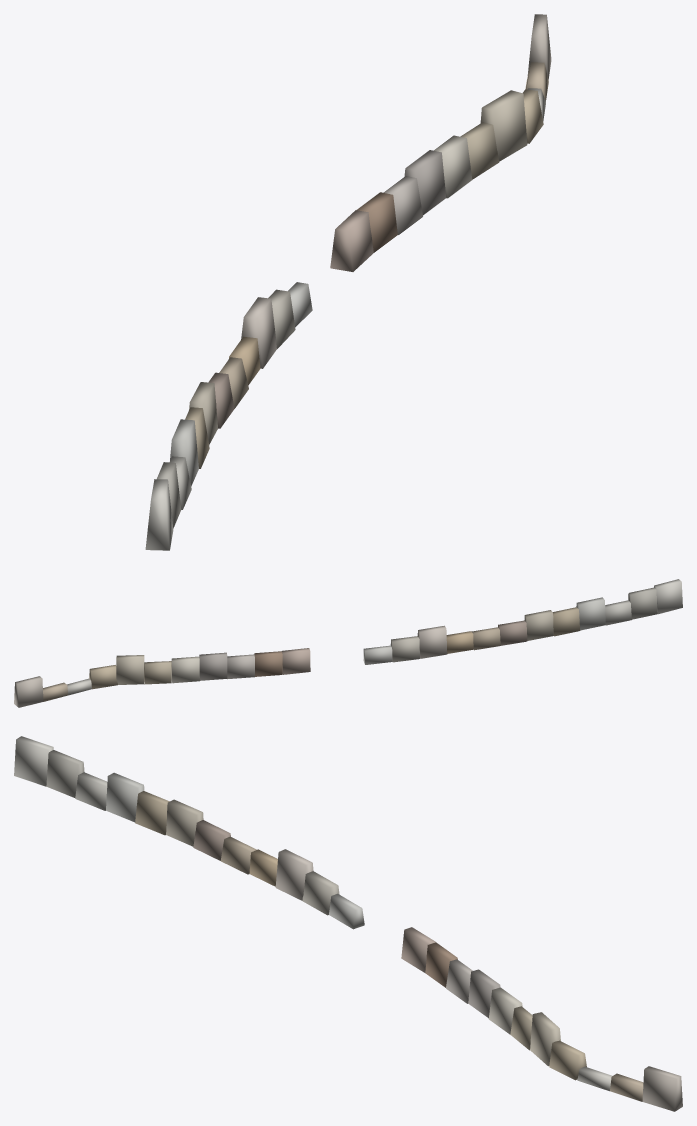
File: farm_29_16_collision.glb
3 views of the same model, one above another, from view 1: azimuth 30°, elevation 25°; view 2: azimuth 150°, elevation 25°; view 3: azimuth 270°, elevation 25° (orthographic). The views are drawn at different scales.
Parts seen in each view (by area): view 1: geometry_0; view 2: geometry_0; view 3: geometry_0.
Boxes of the visible parts, x1=… form: geometry_0: x1=145, y1=14, x2=551, y2=550; geometry_0: x1=14, y1=579, x2=682, y2=707; geometry_0: x1=14, y1=736, x2=682, y2=1111.
Size of the model in its own units: 28.01 by 3.5 by 26.63.
